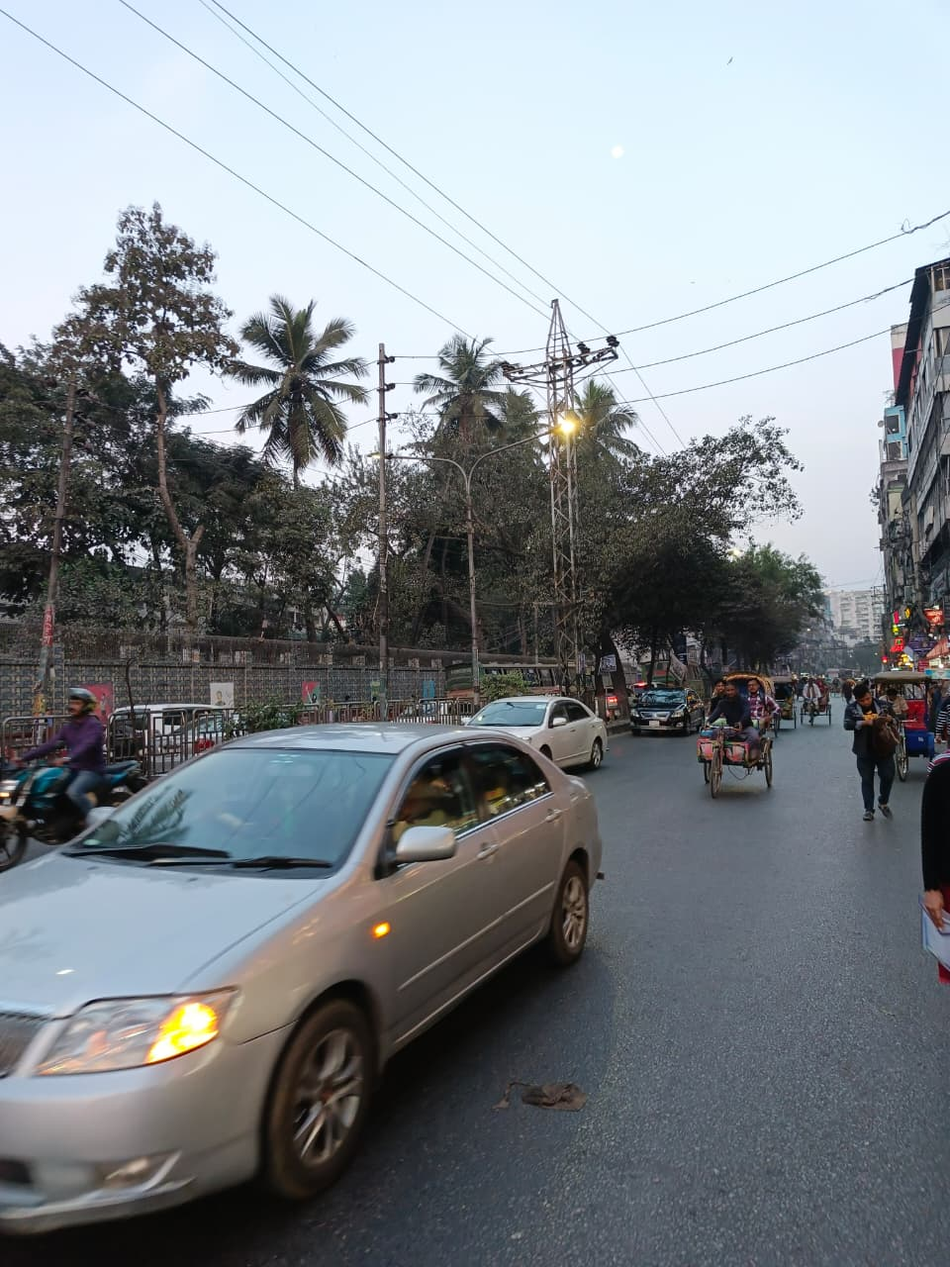Bikes: (7, 679, 137, 852)
auto-ricksaw: (712, 636, 839, 836)
private car: (0, 715, 582, 1267), (475, 693, 614, 775)
